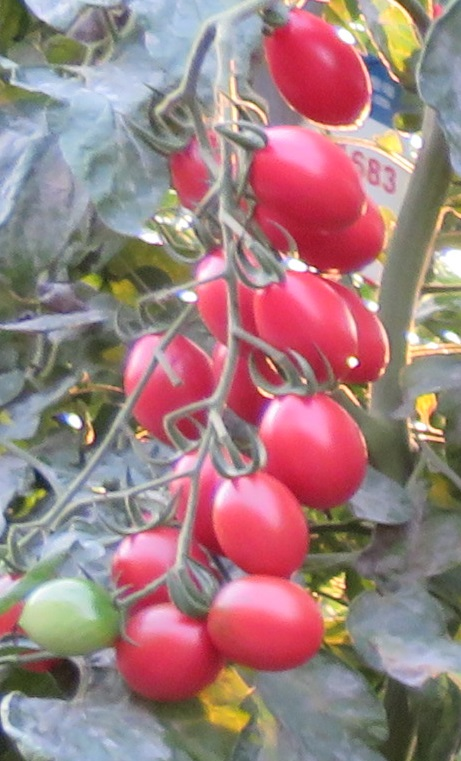green: (14, 577, 128, 659)
red: (258, 392, 376, 512), (251, 262, 361, 388), (265, 10, 372, 129), (244, 125, 367, 228), (201, 577, 331, 671), (114, 596, 222, 704), (211, 468, 313, 582), (124, 328, 214, 444), (109, 522, 219, 611), (189, 240, 273, 352), (167, 135, 238, 209)
